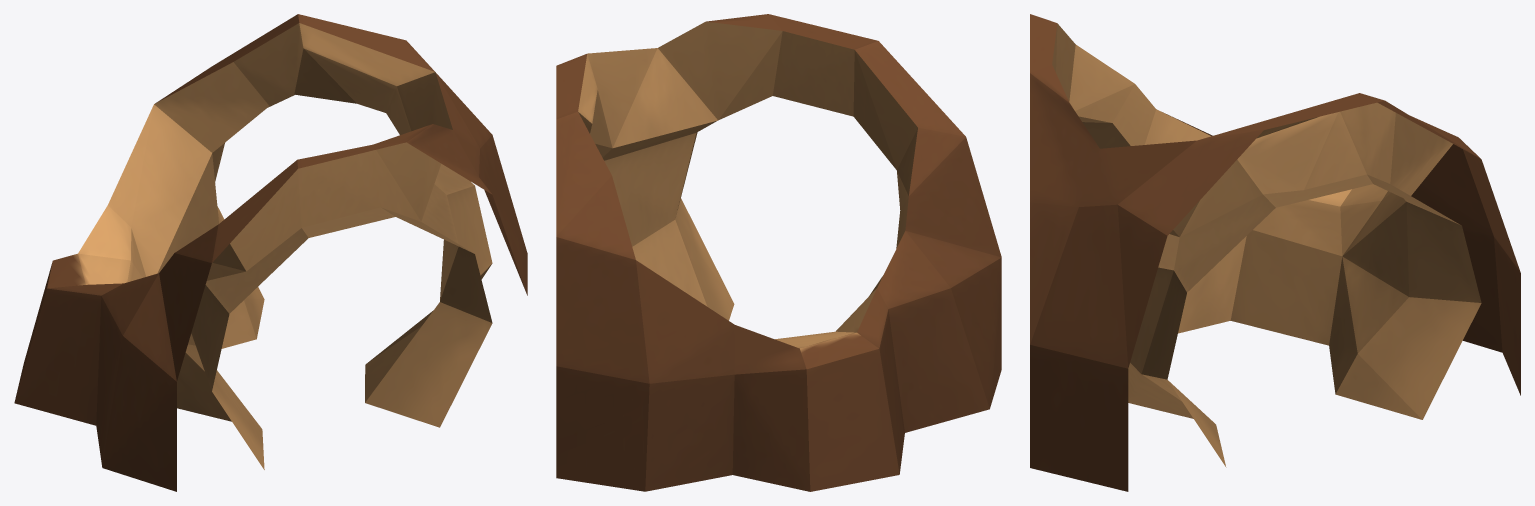
The model's file is Tronc_Perce_TrouL.FBX.
3 views of the same model, side by side, from view 1: azimuth 30°, elevation 25°; view 2: azimuth 150°, elevation 25°; view 3: azimuth 270°, elevation 25° (orthographic). The views are drawn at different scales.
Visible parts, largest first — view 1: TroncPerce_TrouL; view 2: TroncPerce_TrouL; view 3: TroncPerce_TrouL.
Part boxes in pixels (x1,y1,x2,y2): TroncPerce_TrouL: (14, 14, 527, 491); TroncPerce_TrouL: (556, 14, 1001, 491); TroncPerce_TrouL: (1030, 14, 1520, 491).
Bounding box in the file's own units: 2.43 × 1.61 × 2.17.
